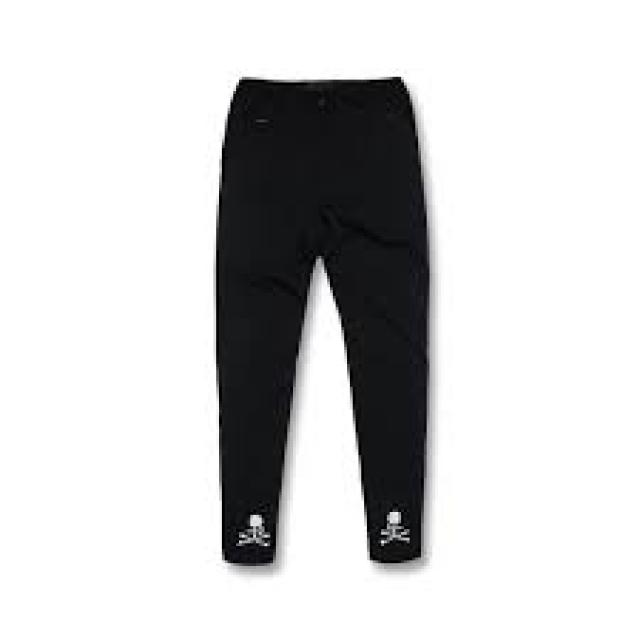long-pants: (214, 75, 429, 566)
